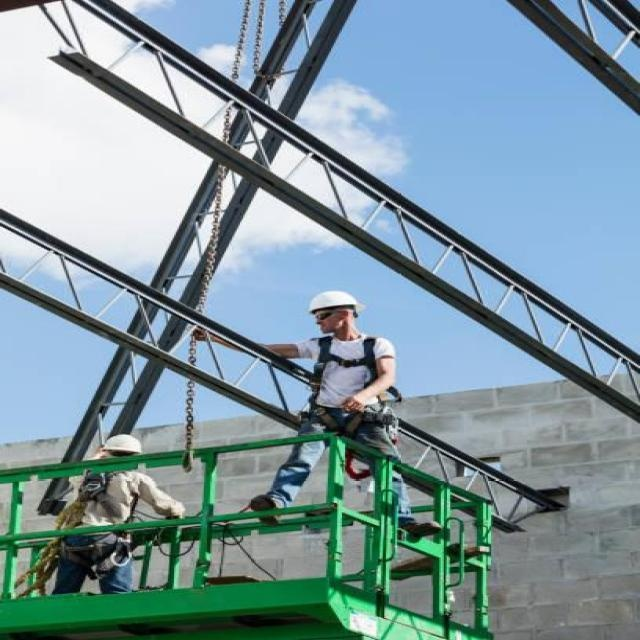Arnes_seguridad: (52, 464, 133, 575), (306, 336, 392, 439)
